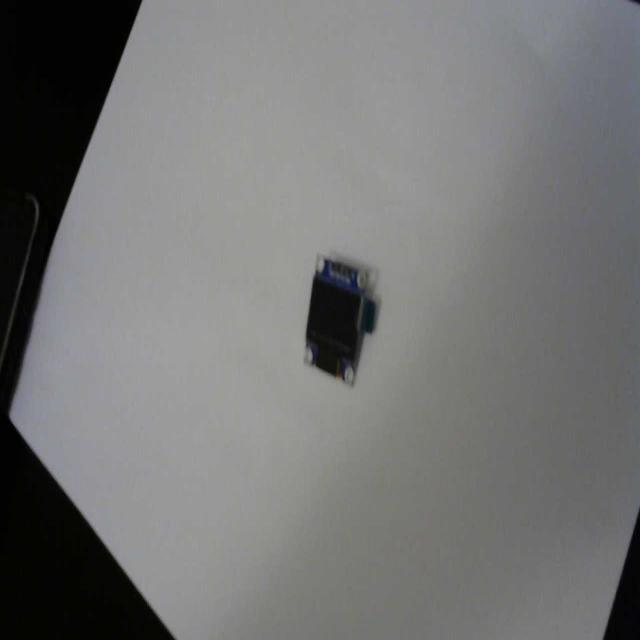oled: (302, 242, 381, 388)
